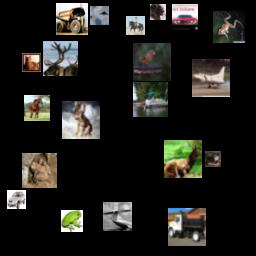airplane: (192, 59, 230, 97), (103, 202, 132, 231), (90, 6, 109, 25)
automobile: (172, 4, 198, 30), (7, 190, 26, 209)
bird: (133, 43, 171, 81)
cat: (22, 53, 41, 72), (150, 4, 166, 20)
deer: (164, 140, 202, 178), (43, 41, 78, 76)
dog: (62, 101, 100, 139), (205, 151, 221, 167)
frog: (22, 153, 57, 188), (213, 11, 245, 43), (61, 210, 83, 232)
ship: (133, 82, 168, 117)
truck: (168, 208, 206, 246), (56, 3, 88, 35)
